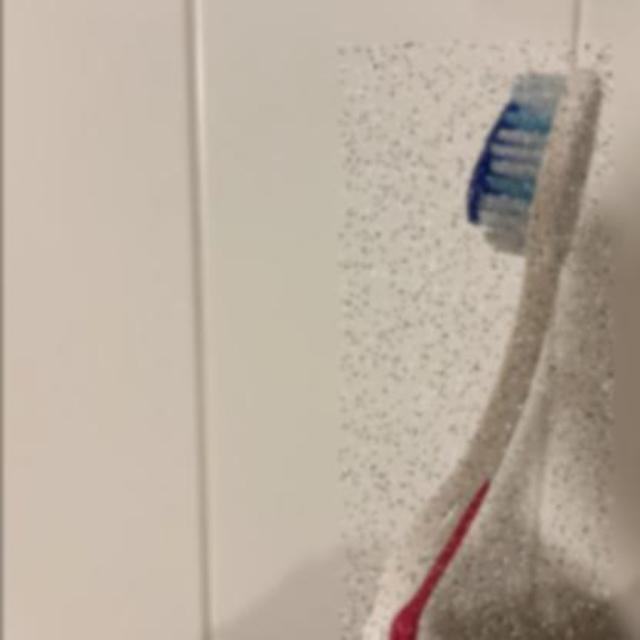toothbrush: (339, 42, 611, 640)
